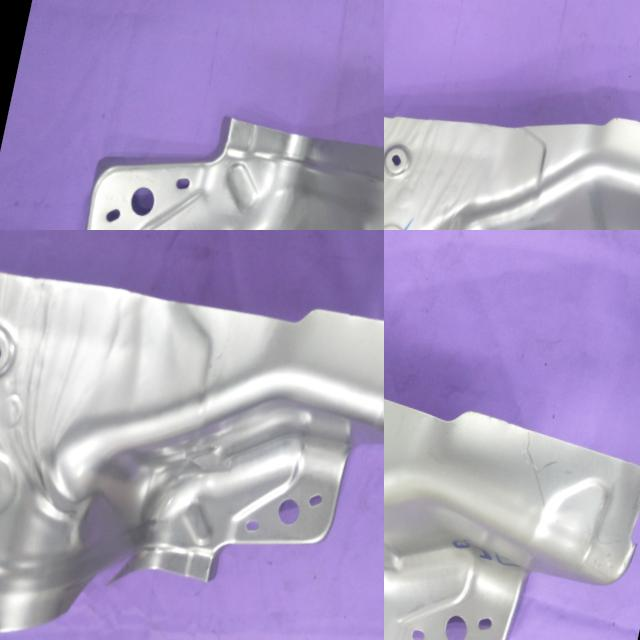Defect: (64, 547, 155, 614)
Healthy: (384, 302, 640, 640), (0, 66, 384, 230), (384, 47, 640, 230)
